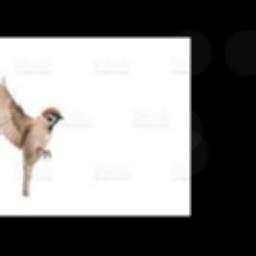Sparrow: (0, 74, 63, 196)
